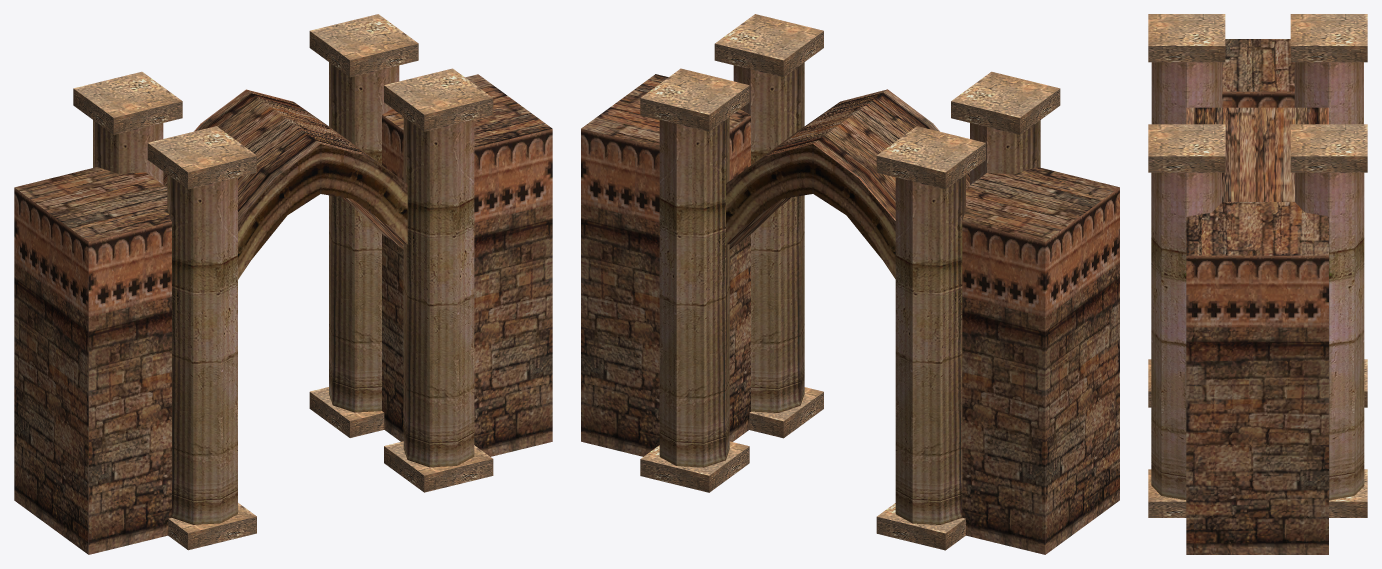
File: IFRTd.glb
The picture shows the model from 3 angles, left to right: view 1: azimuth 30°, elevation 25°; view 2: azimuth 150°, elevation 25°; view 3: azimuth 270°, elevation 25°; orthographic projection. The views are drawn at different scales.
Visible parts, largest first — view 1: _IFRTd; view 2: _IFRTd; view 3: _IFRTd.
Part boxes in pixels (x1,y1,x2,y2): _IFRTd: (14,14,552,554); _IFRTd: (581,14,1119,554); _IFRTd: (1148,14,1367,554).
Size of the model in its own units: 13.17 by 10.25 by 5.64.
Materials: 1 (1 with a texture image).
